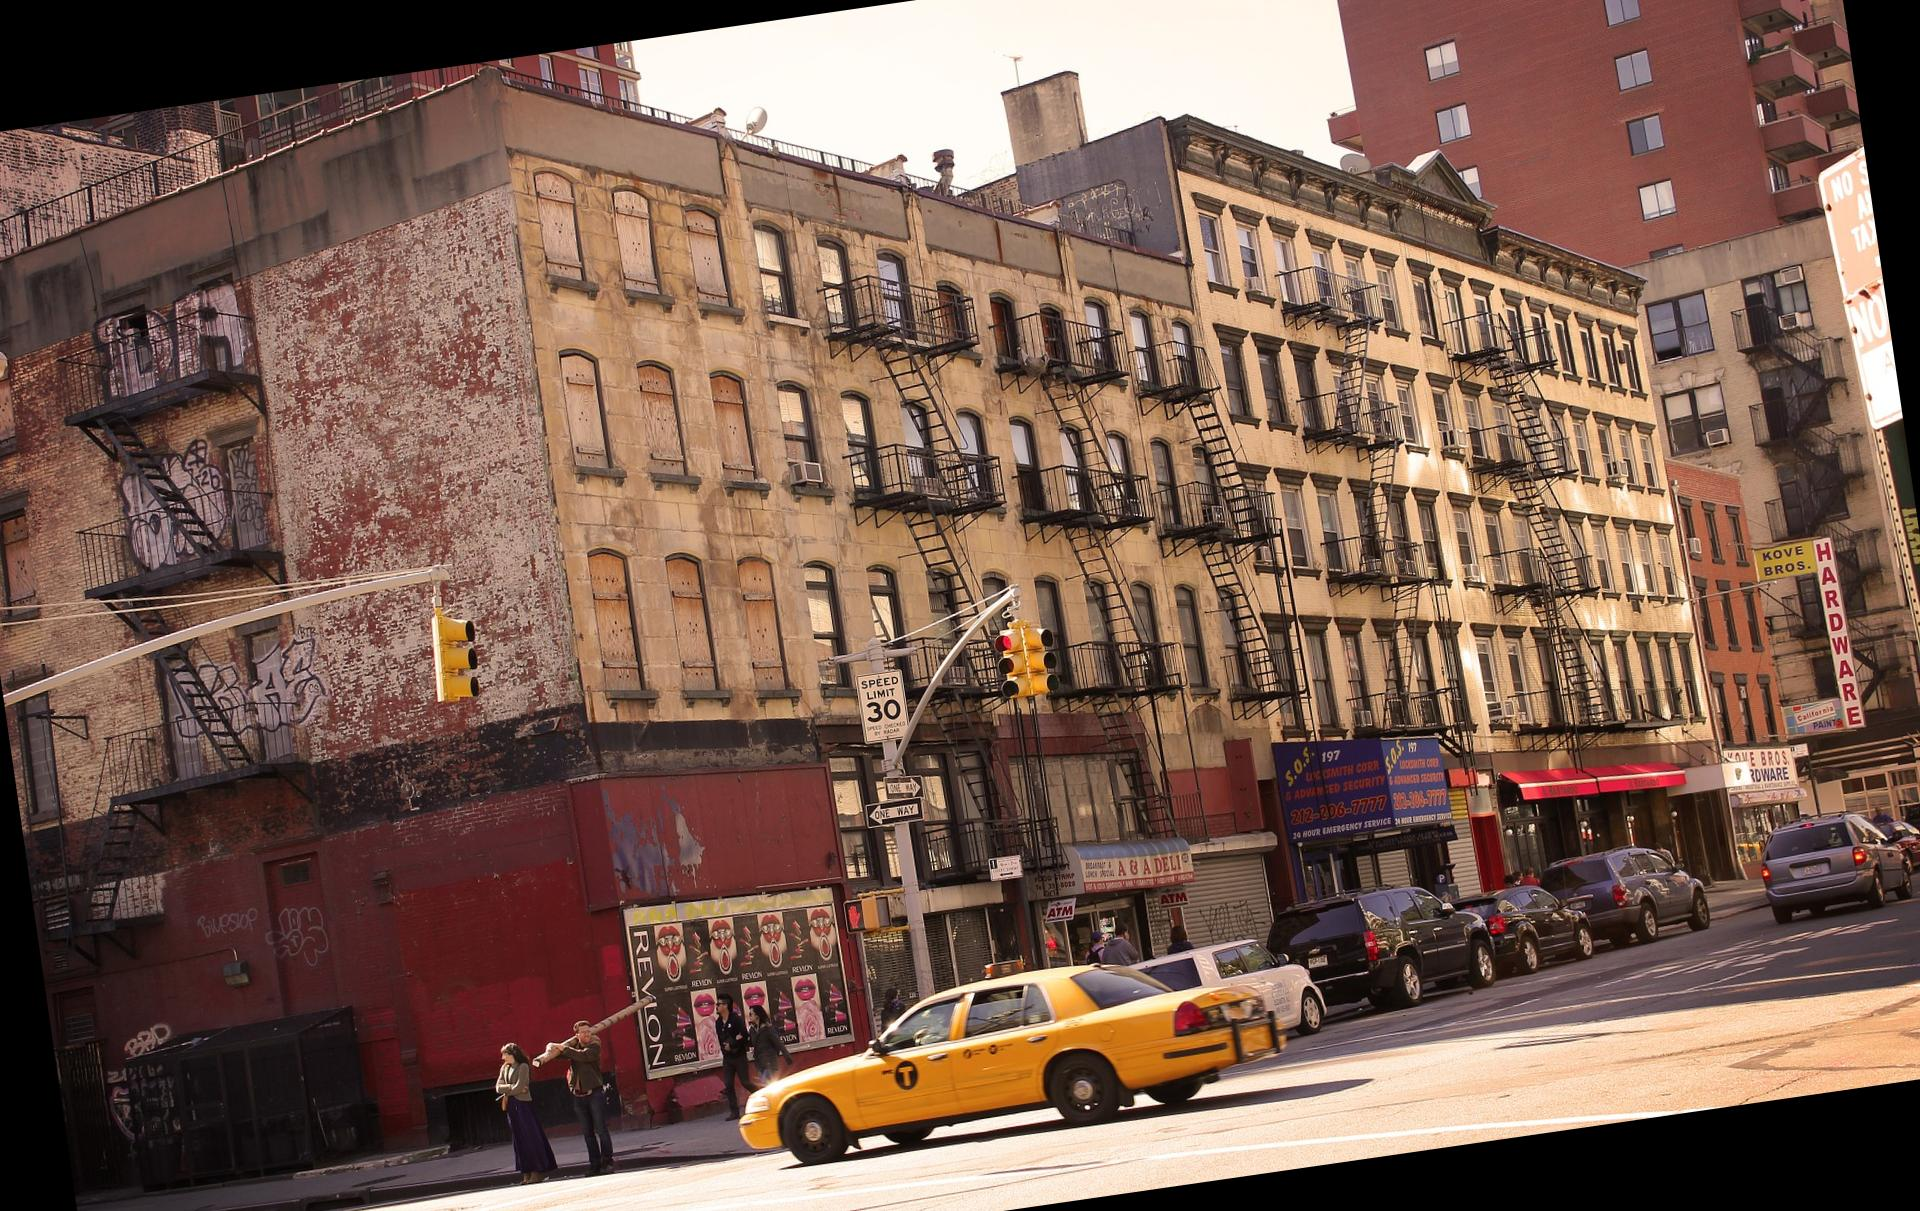taxi: (733, 957, 1303, 1164)
